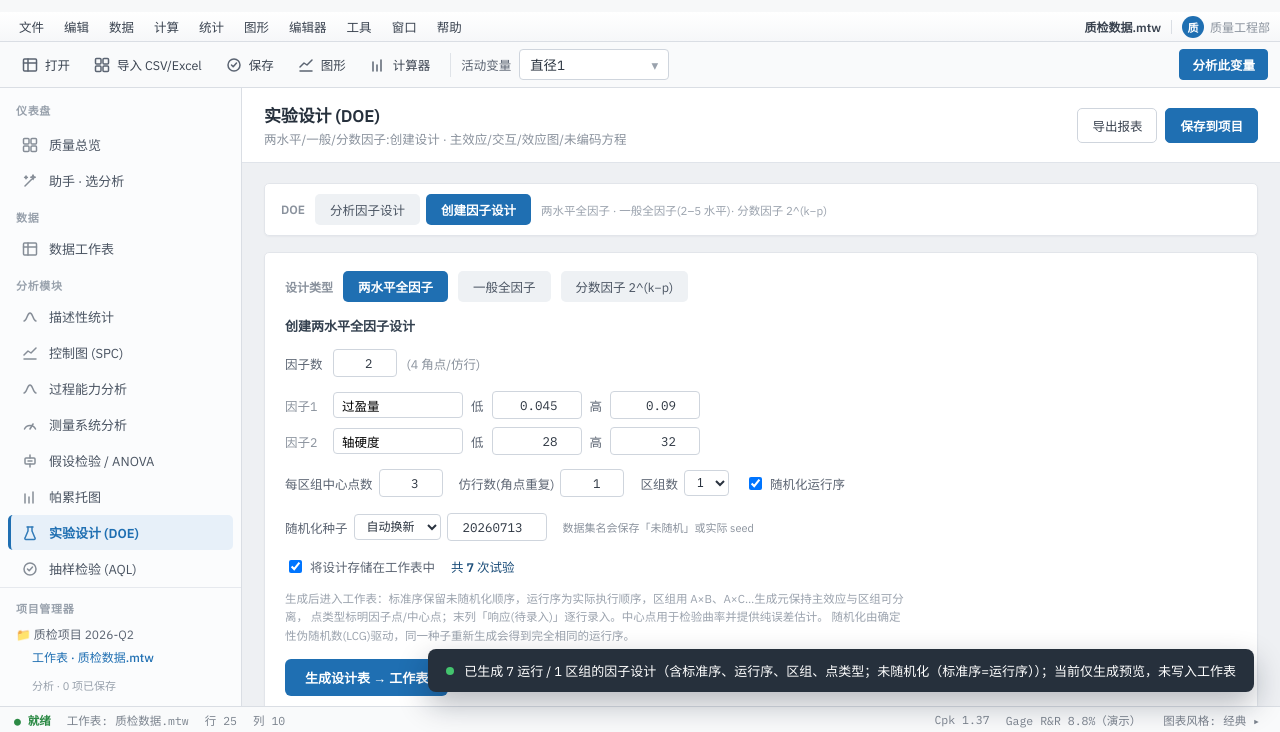
Test: DOE 随机化可复现与审计 › 自动模式连续生成换 seed，并把两次实际 seed 写入预览数据集名
Step 1. Click the checkbox labelled "将设计存储在工作表中" → [296, 566], box [289,560,302,573]
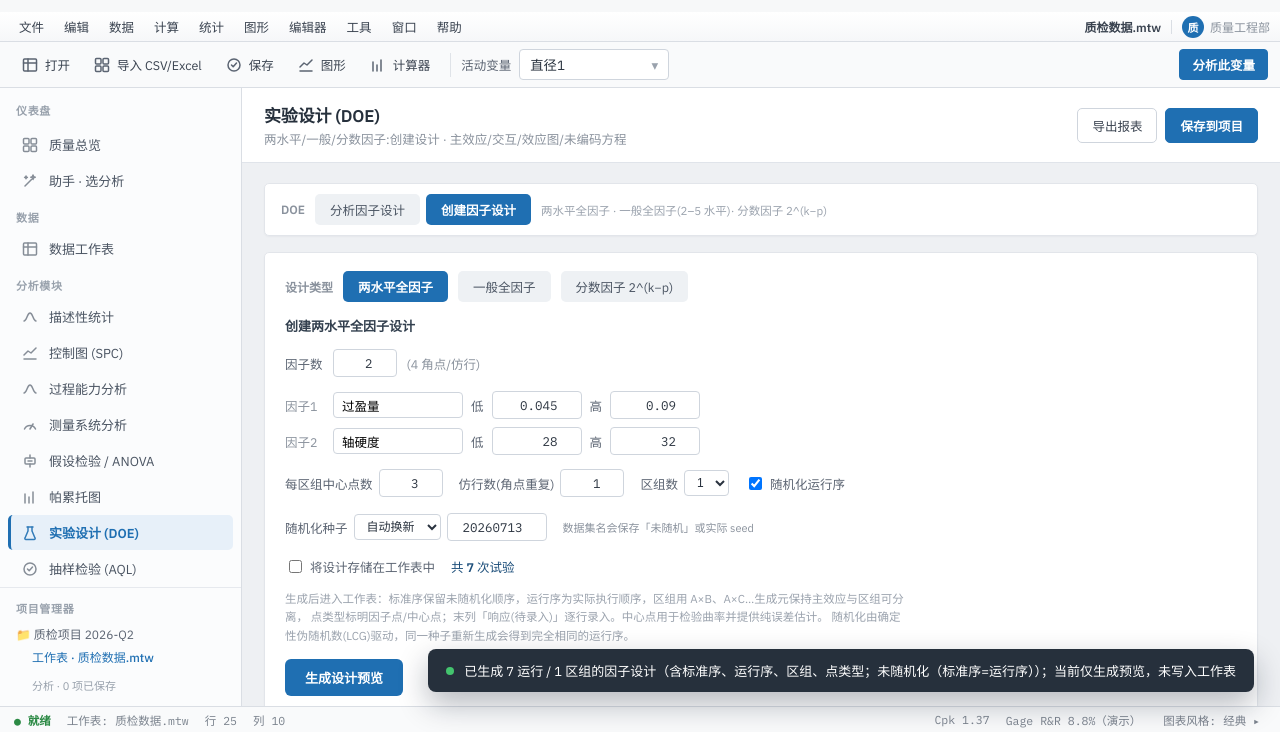
Step 2. Click the button "生成设计预览" → [344, 678], box [285,659,403,696]
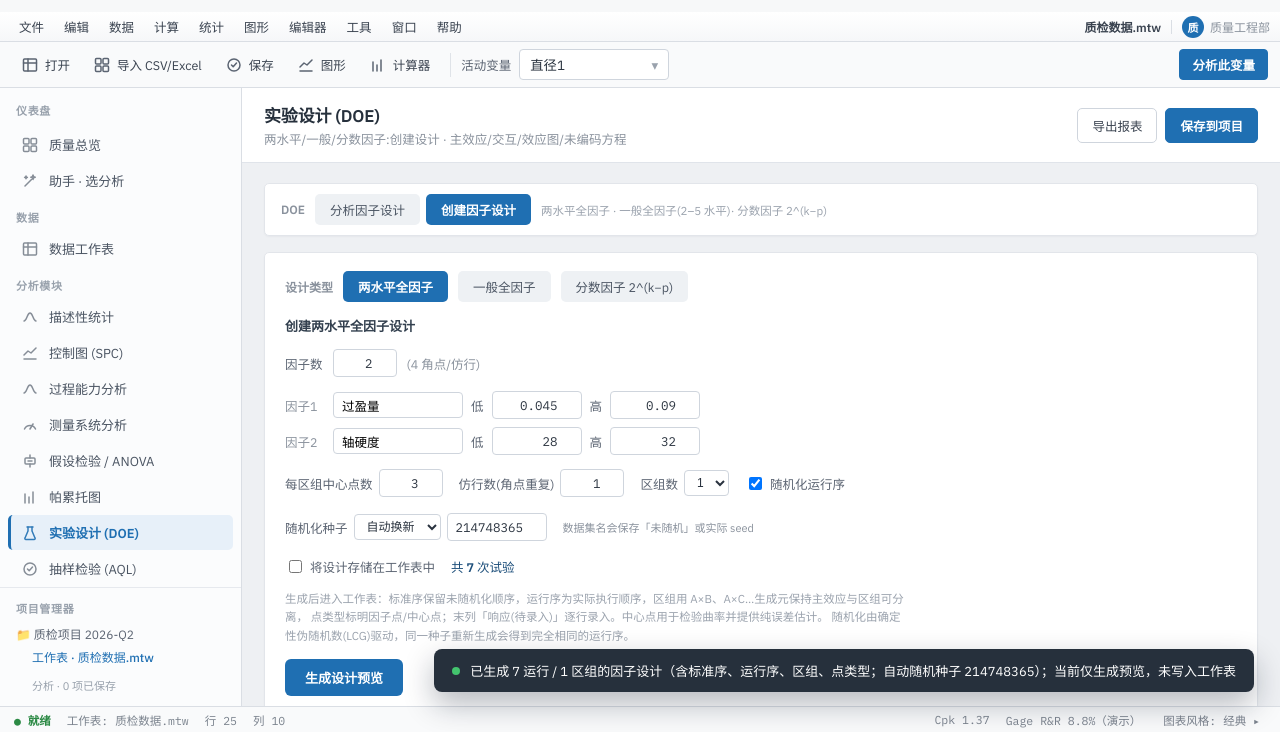
Step 3. Click the button "生成设计预览" → [344, 678], box [285,659,403,696]
(page scrolled)
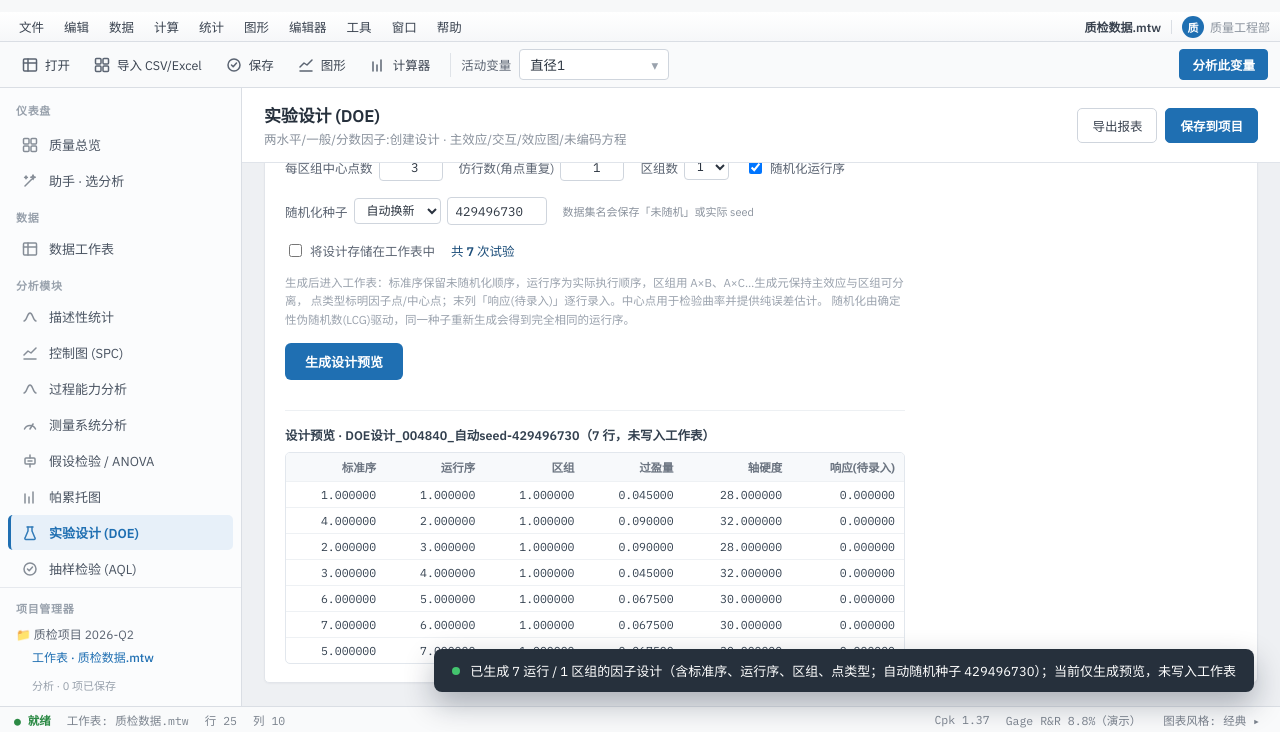
Check: the text "设计预览 · DOE设计_004840_自动seed-429496730（7 行，未写入工作表）" is shown, box [285,427,715,443]
